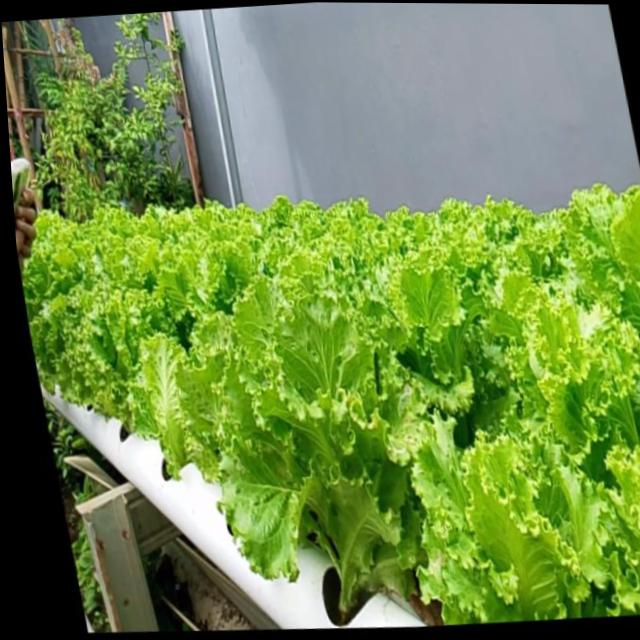Mature: (19, 187, 640, 624), (225, 312, 430, 611), (31, 253, 192, 466)
